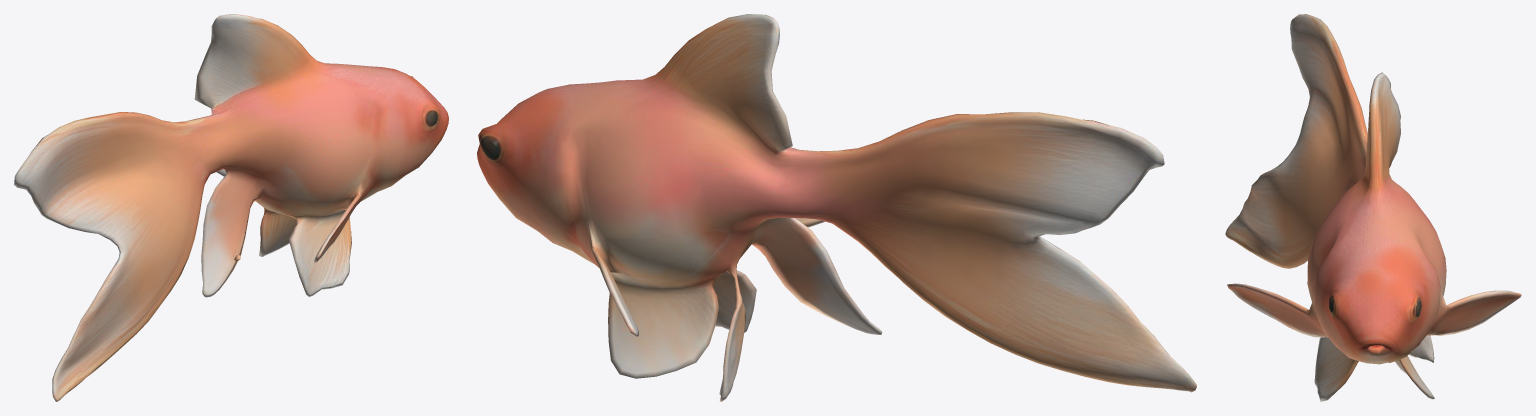
File: red.glb
The picture shows the model from 3 angles, left to right: view 1: azimuth 30°, elevation 25°; view 2: azimuth 150°, elevation 25°; view 3: azimuth 270°, elevation 25°; orthographic projection. The views are drawn at different scales.
Visible parts, largest first — view 1: tripo_node_f91e4884-3c43-48b7-89e2-cb420d8ff1b0; view 2: tripo_node_f91e4884-3c43-48b7-89e2-cb420d8ff1b0; view 3: tripo_node_f91e4884-3c43-48b7-89e2-cb420d8ff1b0.
Boxes of the visible parts, x1,y1,x2,y2 form: tripo_node_f91e4884-3c43-48b7-89e2-cb420d8ff1b0: (14, 14, 448, 401); tripo_node_f91e4884-3c43-48b7-89e2-cb420d8ff1b0: (477, 14, 1196, 401); tripo_node_f91e4884-3c43-48b7-89e2-cb420d8ff1b0: (1225, 14, 1521, 401).
Bounding box in the file's own units: 0.9711 × 0.5407 × 0.5082.
1 material, 1 textured.
